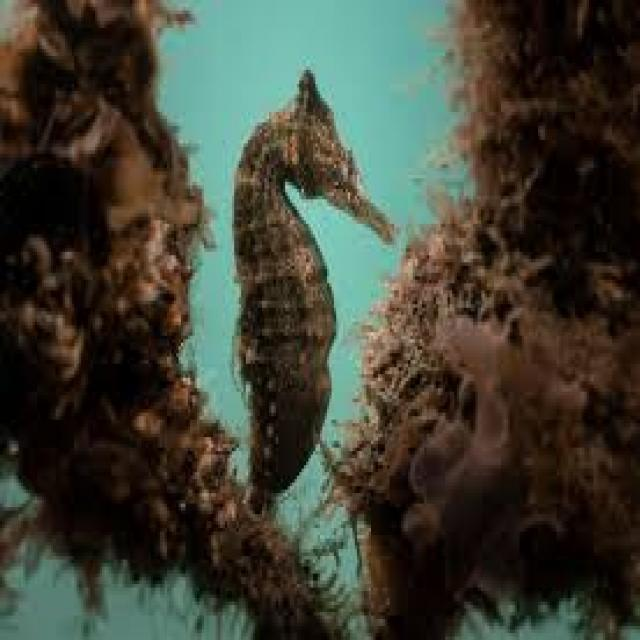SeaHorse: (232, 70, 396, 521)
